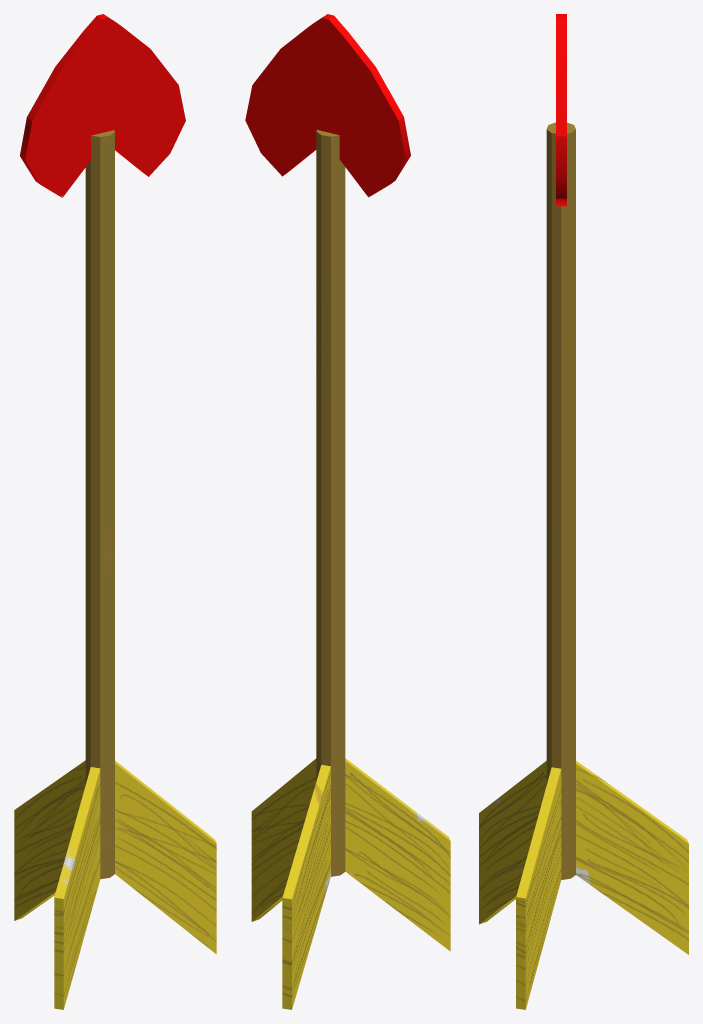
File: arrow.fbx
3 renders of one model, left to right at view 1: azimuth 30°, elevation 25°; view 2: azimuth 150°, elevation 25°; view 3: azimuth 270°, elevation 25°, orthographic.
Parts seen in each view (by area): view 1: polySurface1; view 2: polySurface1; view 3: polySurface1.
Part boxes in pixels (left/top/right/bottom): polySurface1: left=14, top=14, right=216, bottom=1009; polySurface1: left=245, top=14, right=450, bottom=1009; polySurface1: left=479, top=14, right=688, bottom=1009.
Size of the model in its own units: 2.21 by 11.07 by 2.22.
